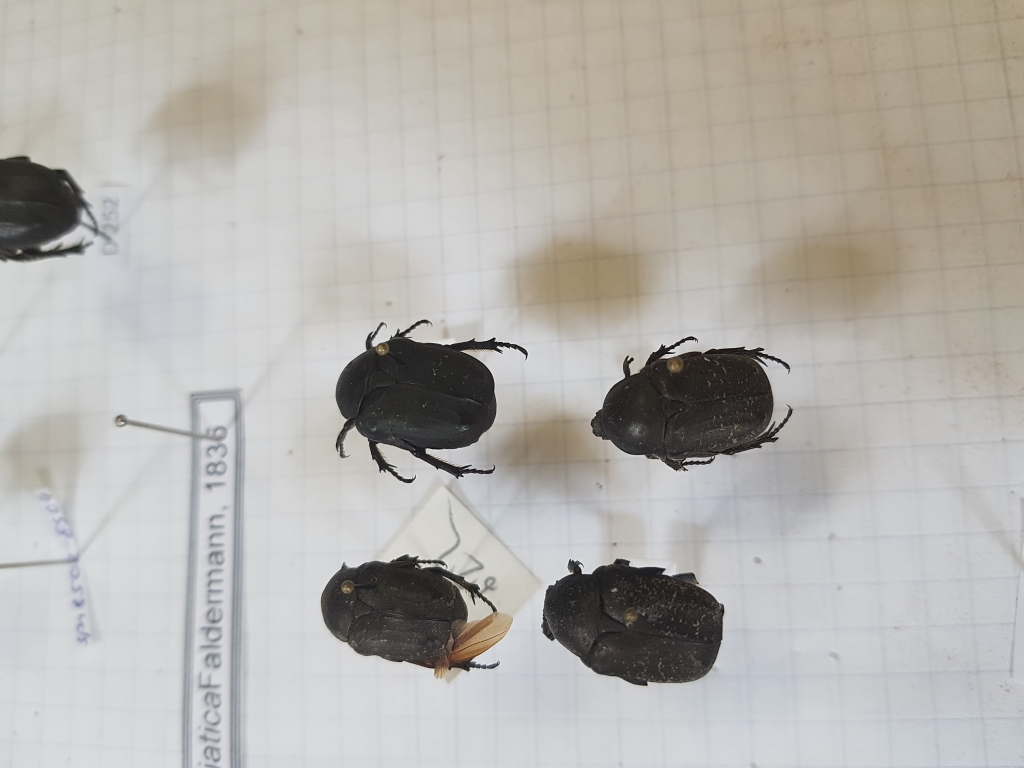Protaetia_asiatica: (326, 315, 534, 487), (596, 314, 801, 481), (540, 547, 732, 700), (318, 544, 512, 685)
